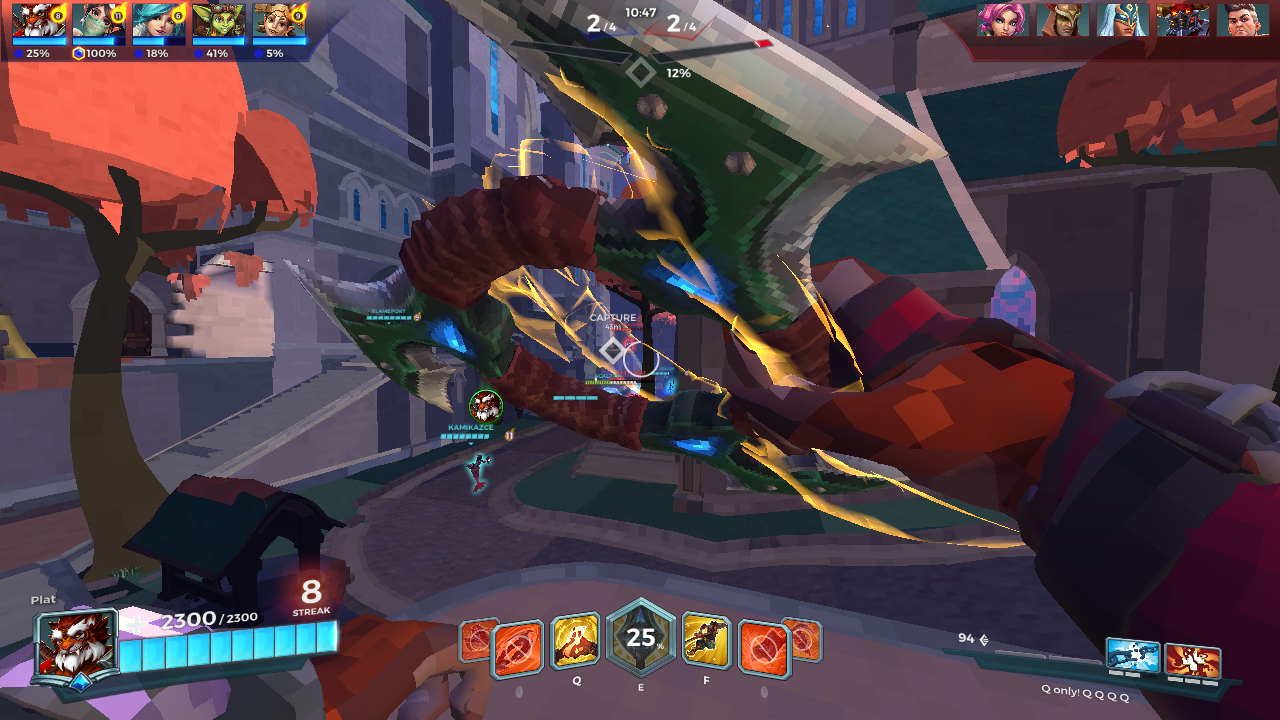model: (620, 337, 632, 351)
